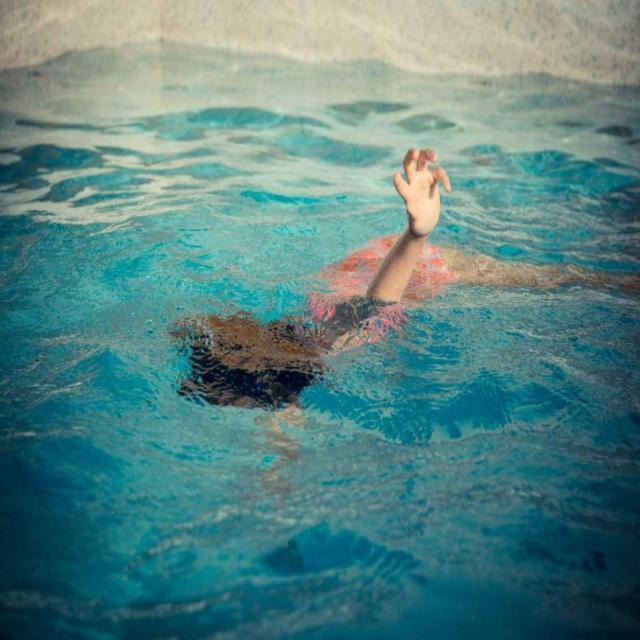Out of Water: (168, 138, 638, 414)
